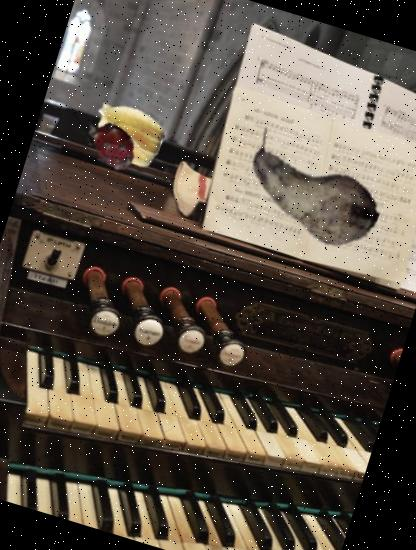Pear: (224, 104, 401, 282)
Physalis: (83, 89, 172, 178)
Pitahaya: (74, 107, 150, 182)
